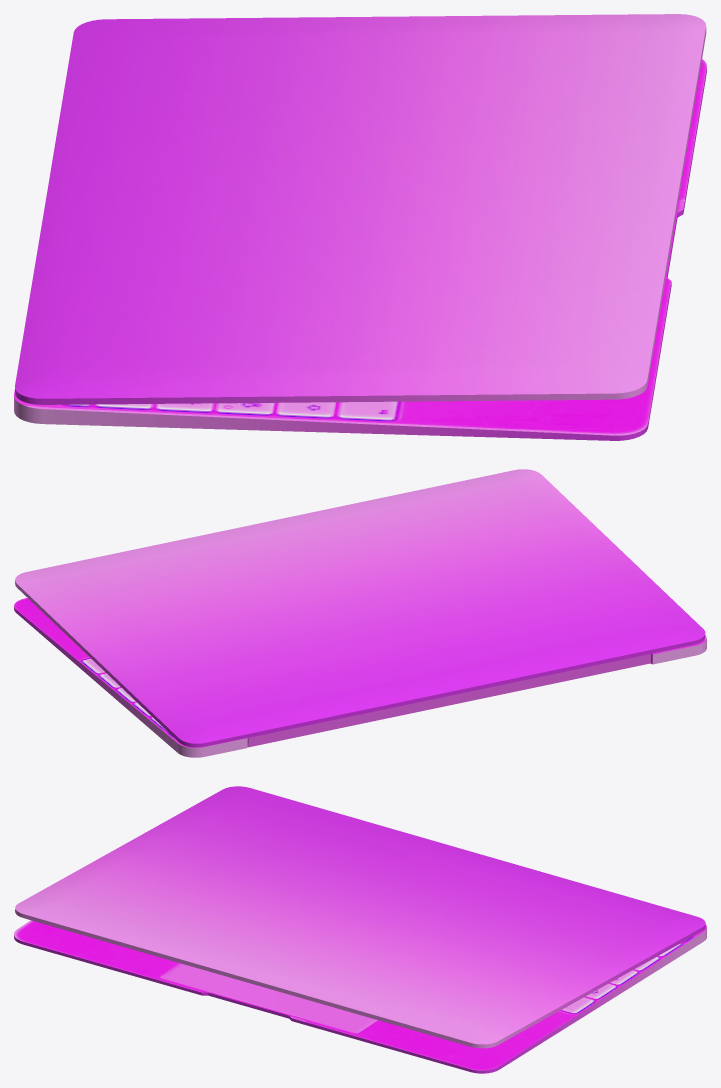
File: Laptop.fbx
3 views of the same model, one above another, from view 1: azimuth 30°, elevation 25°; view 2: azimuth 150°, elevation 25°; view 3: azimuth 270°, elevation 25° (orthographic). The views are drawn at different scales.
Parts seen in each view (by area): view 1: screen, laptop; view 2: screen, laptop; view 3: screen, laptop.
Part boxes in pixels (x1=…): screen: x1=15, y1=14, x2=706, y2=404; laptop: x1=14, y1=59, x2=706, y2=440; screen: x1=15, y1=469, x2=705, y2=747; laptop: x1=14, y1=598, x2=706, y2=757; screen: x1=15, y1=786, x2=705, y2=1048; laptop: x1=14, y1=920, x2=706, y2=1073.
Bounding box in the file's own units: 12.62 × 0.9081 × 13.54.
